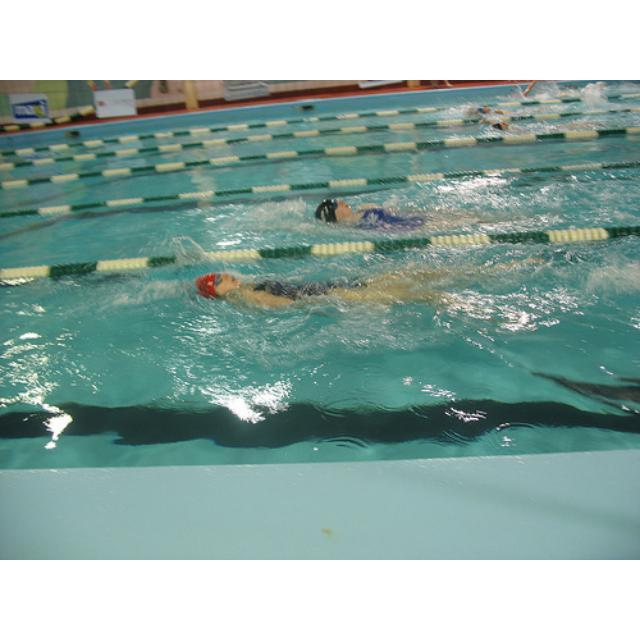human: (194, 262, 469, 317), (315, 191, 476, 234)
